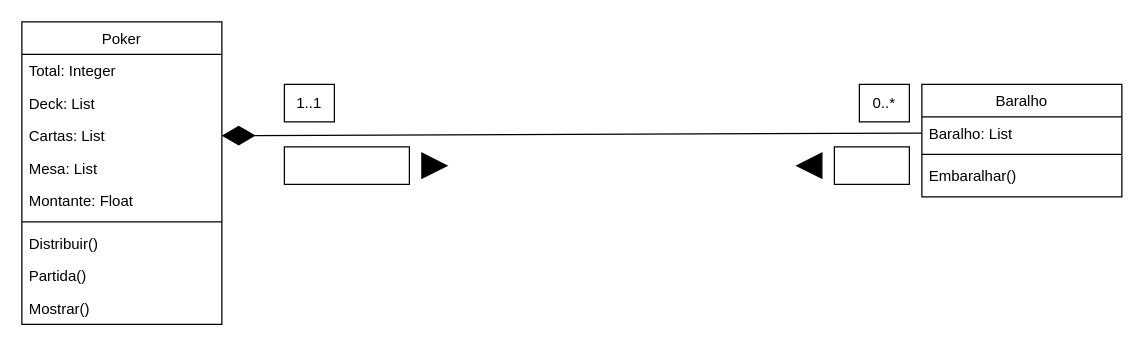
Image size: 1144x350. Some labels were removed from this diagram. The centre of each missing label's shape, as x and y in pixels:
"Compõe" belongs at (x=871, y=165).
"É composto por" belongs at (x=346, y=165).
